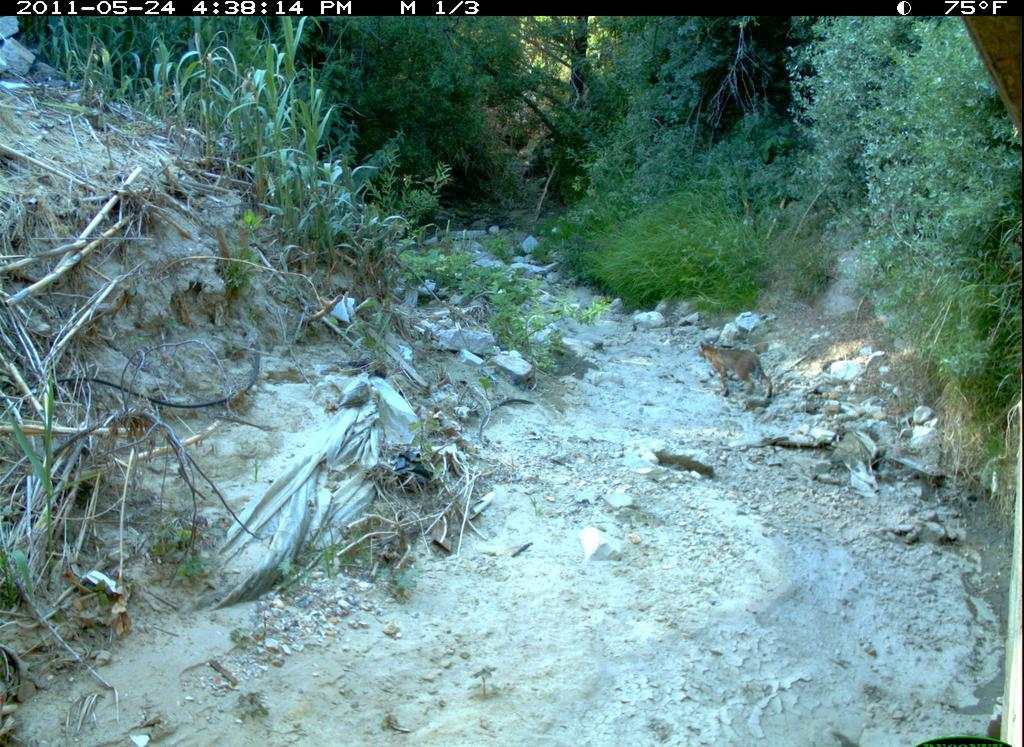bobcat: (690, 337, 775, 409)
